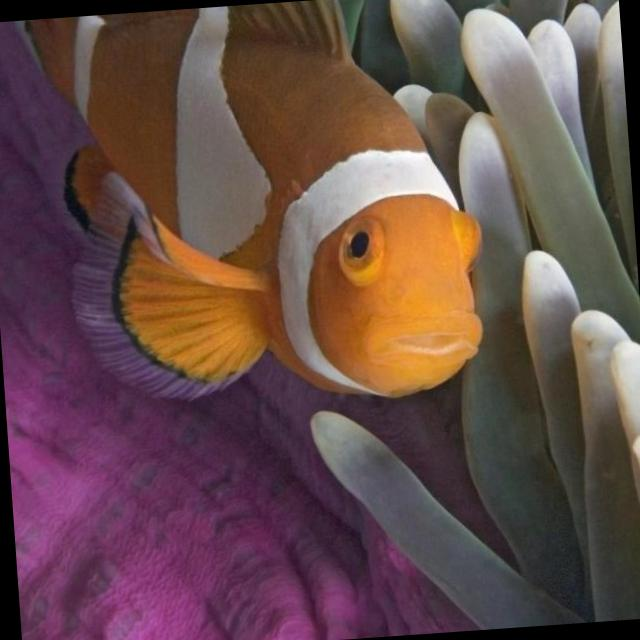ClownFish: (15, 0, 494, 422)
